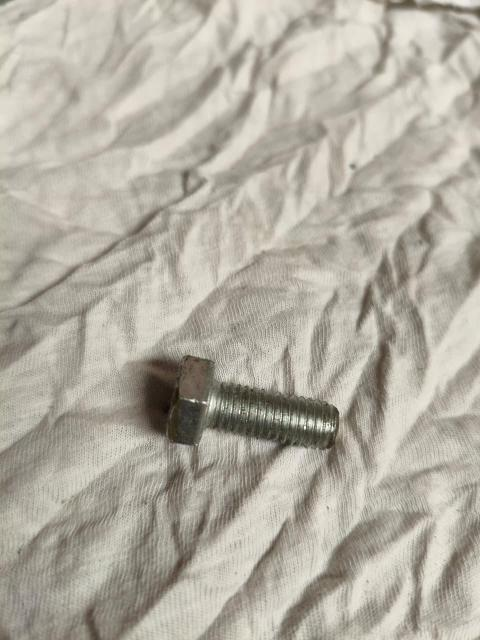Metal: (163, 353, 348, 462)
